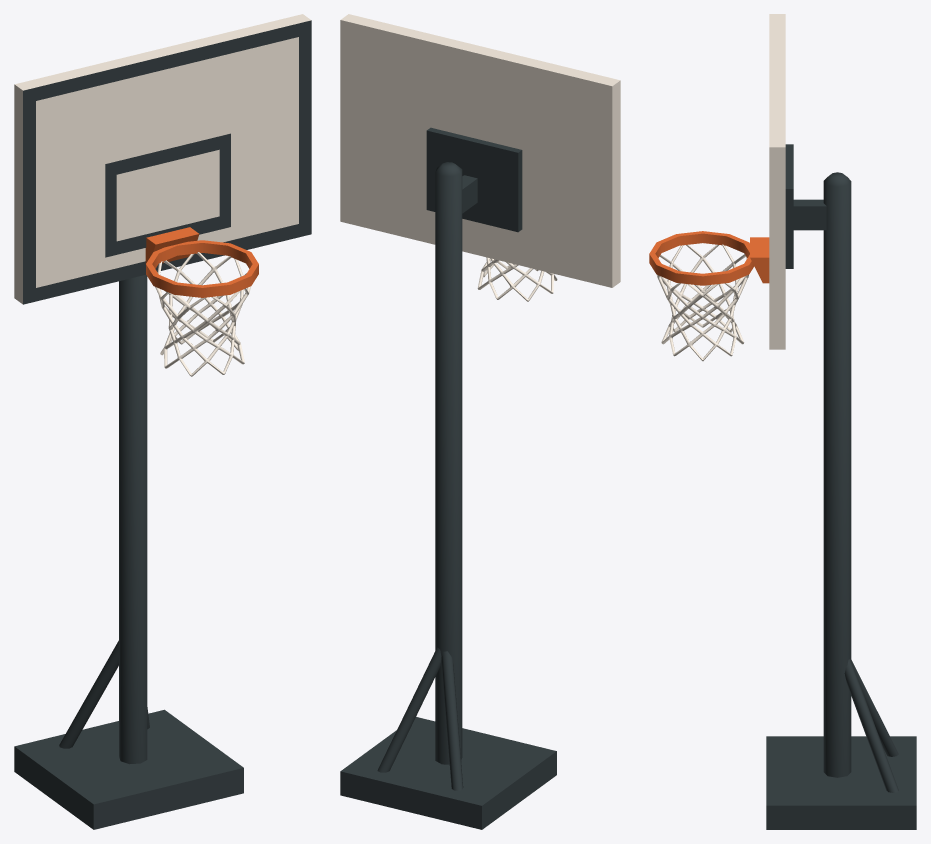
File: Basketballhoop_01.fbx
3 renders of one model, left to right at view 1: azimuth 30°, elevation 25°; view 2: azimuth 150°, elevation 25°; view 3: azimuth 270°, elevation 25°, orthographic. The views are drawn at different scales.
Visible parts, largest first — view 1: Basketbalhoop_01; view 2: Basketbalhoop_01; view 3: Basketbalhoop_01.
Part boxes in pixels (box(x1,y1,x2,y2)): Basketbalhoop_01: box(14, 14, 311, 829); Basketbalhoop_01: box(340, 14, 620, 829); Basketbalhoop_01: box(649, 14, 916, 829).
Size of the model in its own units: 1.05 by 2.63 by 0.8899.
